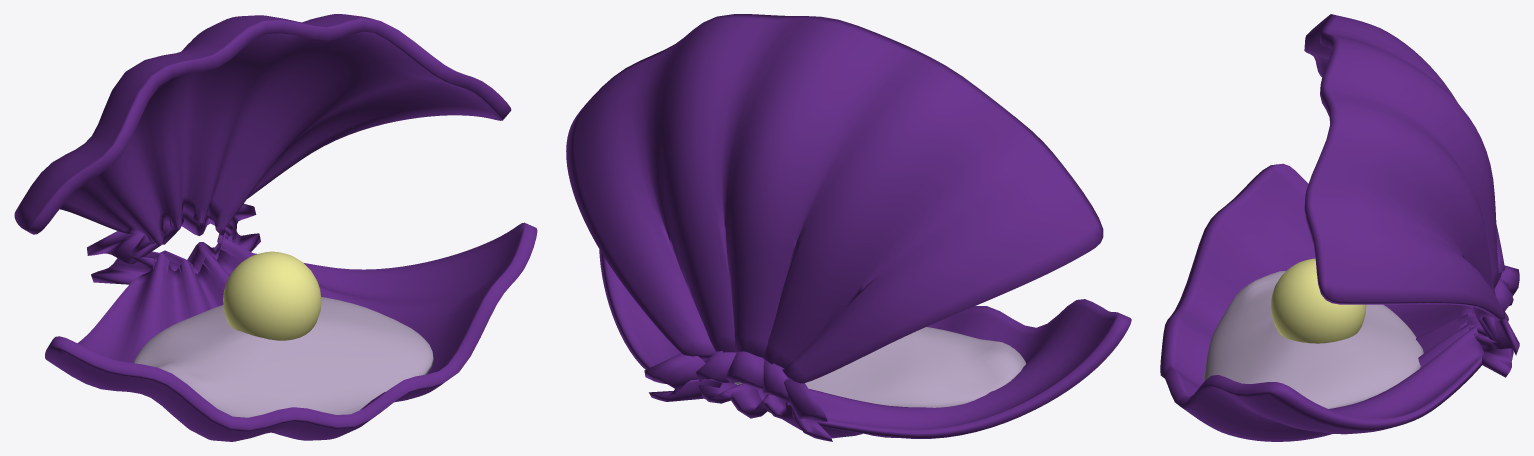
File: Ostra.glb
The picture shows the model from 3 angles, left to right: view 1: azimuth 30°, elevation 25°; view 2: azimuth 150°, elevation 25°; view 3: azimuth 270°, elevation 25°; orthographic projection. The views are drawn at different scales.
Visible parts, largest first — view 1: Sphere.001, Sphere, Sphere.003, Sphere.002; view 2: Sphere.001, Sphere, Sphere.003; view 3: Sphere.001, Sphere, Sphere.003, Sphere.002.
Part boxes in pixels (x1,y1,x2,y2): Sphere.001: (14,14,511,264); Sphere: (45,222,537,441); Sphere.003: (133,297,433,417); Sphere.002: (223,251,321,340); Sphere.001: (566,14,1103,421); Sphere: (599,249,1131,441); Sphere.003: (735,327,1025,407); Sphere.001: (1304,14,1519,355); Sphere: (1160,163,1513,441); Sphere.003: (1203,271,1423,408); Sphere.002: (1270,258,1366,343).
Size of the model in its own units: 2.62 by 2.02 by 1.74.
